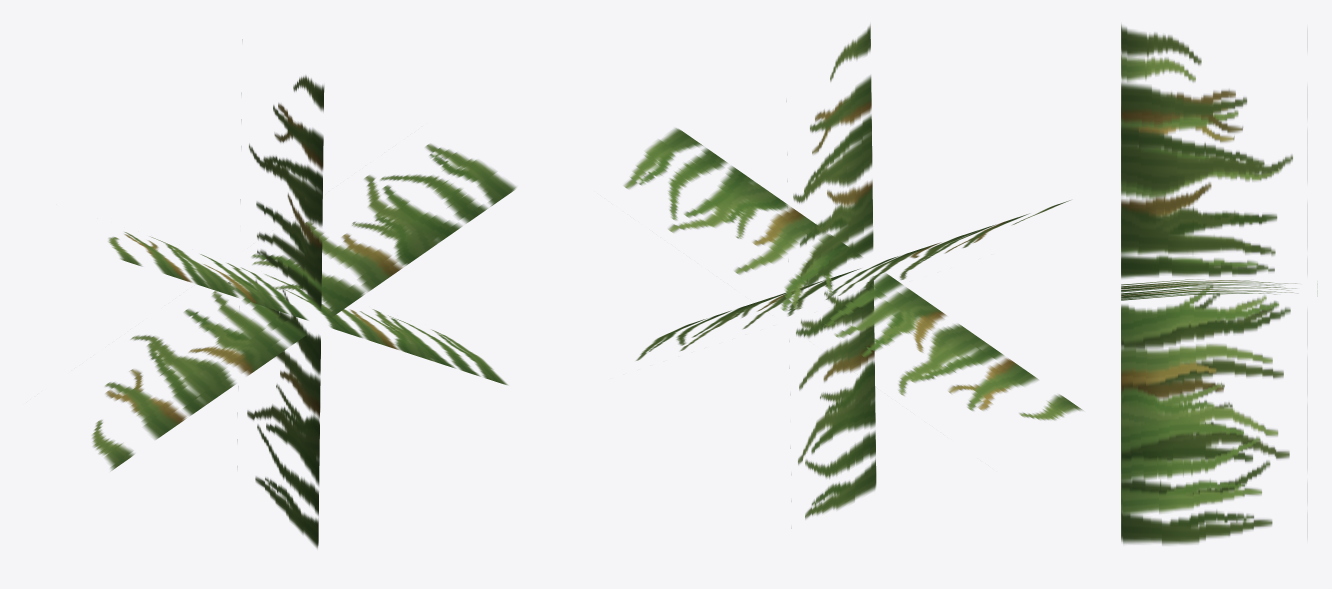
File: Tuft_Tiny.glb
3 renders of one model, left to right at view 1: azimuth 30°, elevation 25°; view 2: azimuth 150°, elevation 25°; view 3: azimuth 270°, elevation 25°, orthographic. The views are drawn at different scales.
Parts seen in each view (by area): view 1: Tuft_Tiny; view 2: Tuft_Tiny; view 3: Tuft_Tiny.
Part boxes in pixels (x1,y1,x2,y2): Tuft_Tiny: (92, 39, 516, 548); Tuft_Tiny: (624, 24, 1083, 519); Tuft_Tiny: (1121, 24, 1297, 545).
Bounding box in the file's own units: 0.3689 × 0.4 × 0.1271.
Materials: 1 (1 with a texture image).
